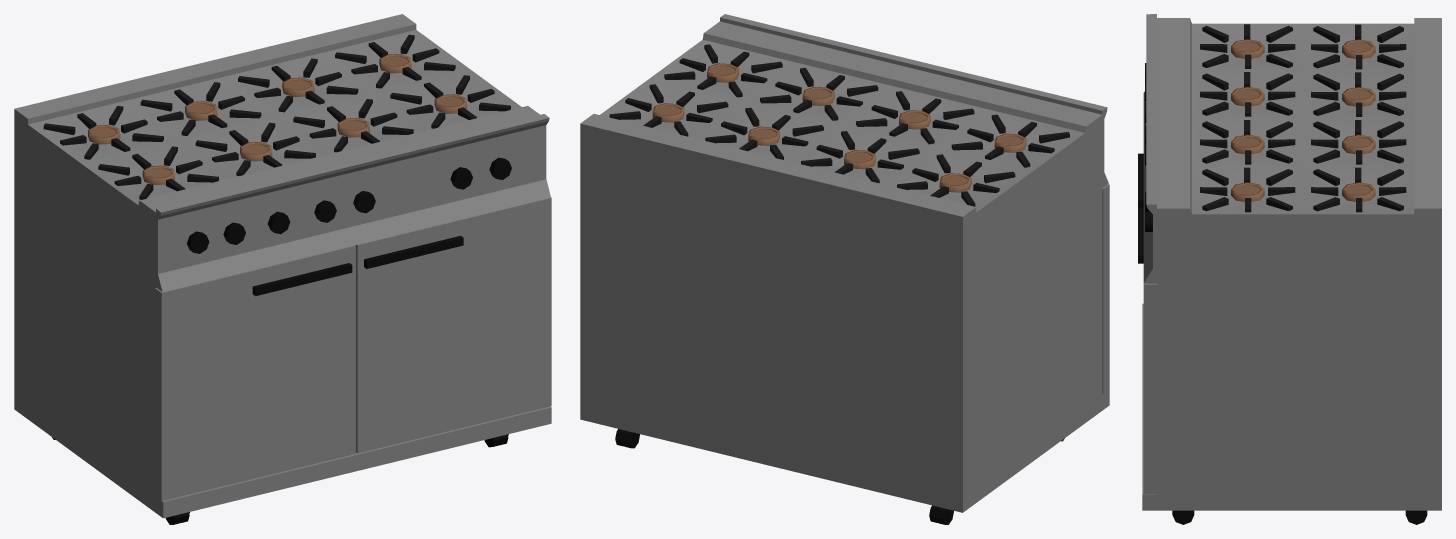
The model's file is kitchen_stove.glb.
3 views of the same model, side by side, from view 1: azimuth 30°, elevation 25°; view 2: azimuth 150°, elevation 25°; view 3: azimuth 270°, elevation 25° (orthographic). The views are drawn at different scales.
Parts seen in each view (by area): view 1: stove; view 2: stove; view 3: stove.
Boxes of the visible parts, x1,y1,x2,y2 form: stove: [14, 14, 551, 518]; stove: [580, 14, 1109, 512]; stove: [1138, 14, 1441, 510].
Bounding box in the file's own units: 1.21 × 0.99 × 0.8155.
